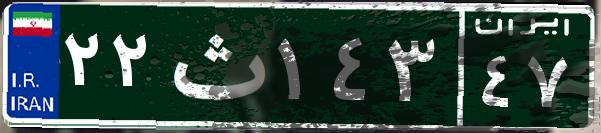1: (273, 28, 330, 110)
2: (57, 26, 110, 107), (110, 28, 158, 105)
3: (385, 28, 445, 110)
4: (330, 28, 385, 110), (475, 38, 525, 113)
7: (525, 38, 570, 115)
ث: (158, 15, 273, 115)
